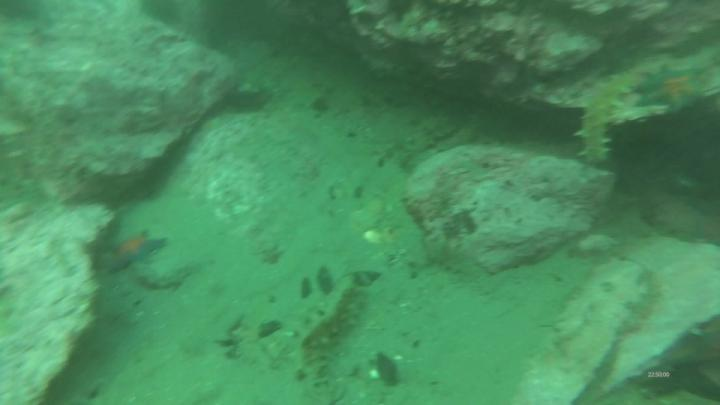echinus: (138, 1, 183, 29)
holothurian: (293, 278, 381, 405), (576, 68, 643, 167), (399, 113, 461, 154)
starfish: (634, 63, 712, 116), (101, 228, 169, 275)
